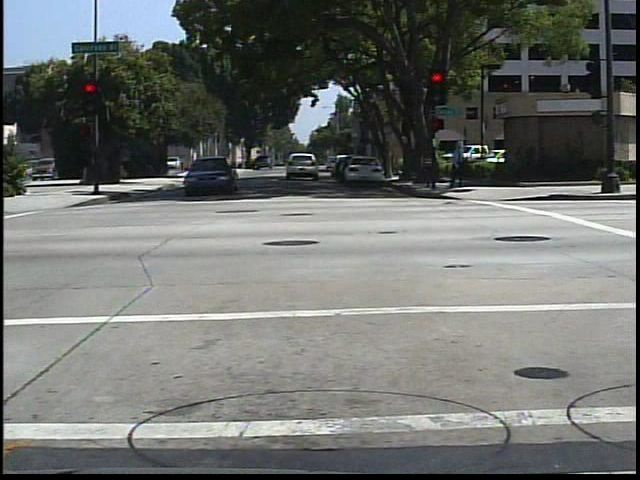person: (446, 140, 470, 192)
